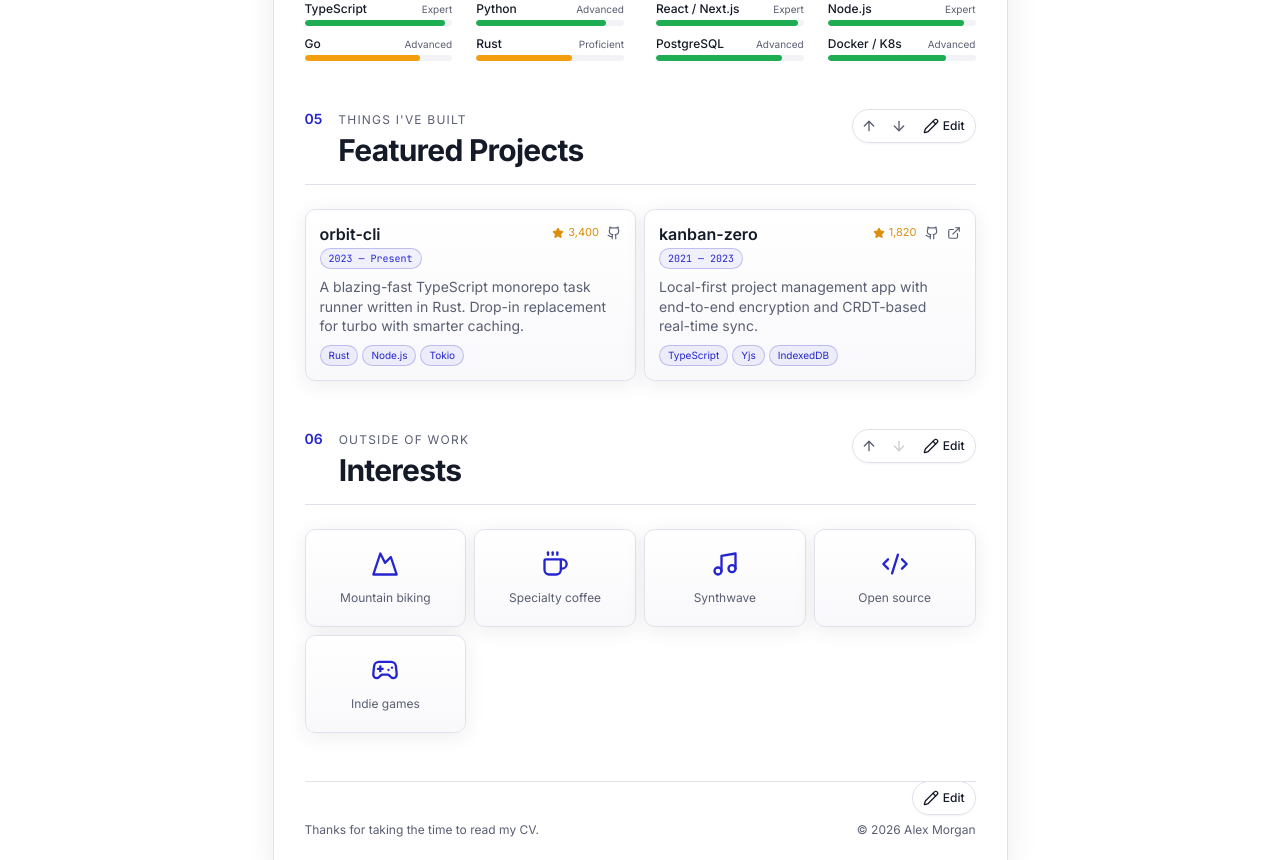
Test: color theme + section designs › switches hobbies to flat cards
The image size is (1280, 860).
(page scrolled)
What coordinates should you click on to do the following:
click the button "Edit" in the row of "Outside of work"
I would click on:
 (944, 446)
Its box is [915,432,972,460].
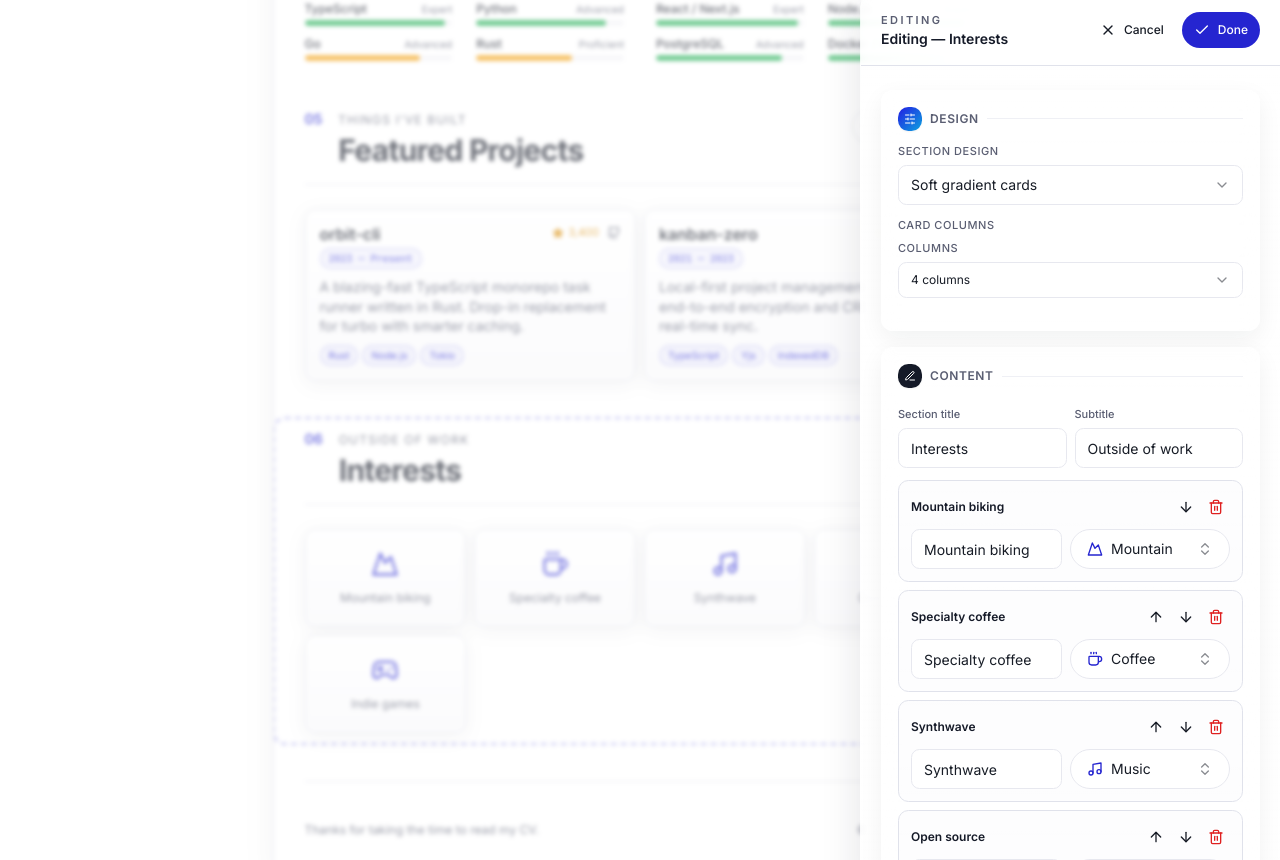
Expected: the heading "Editing — Interests" is shown, [881,28,1008,48]
What coordinates should you click on to do the following:
click the dropdown named "Section design"
I would click on:
 (974, 184)
Its box is [898,165,1243,205].
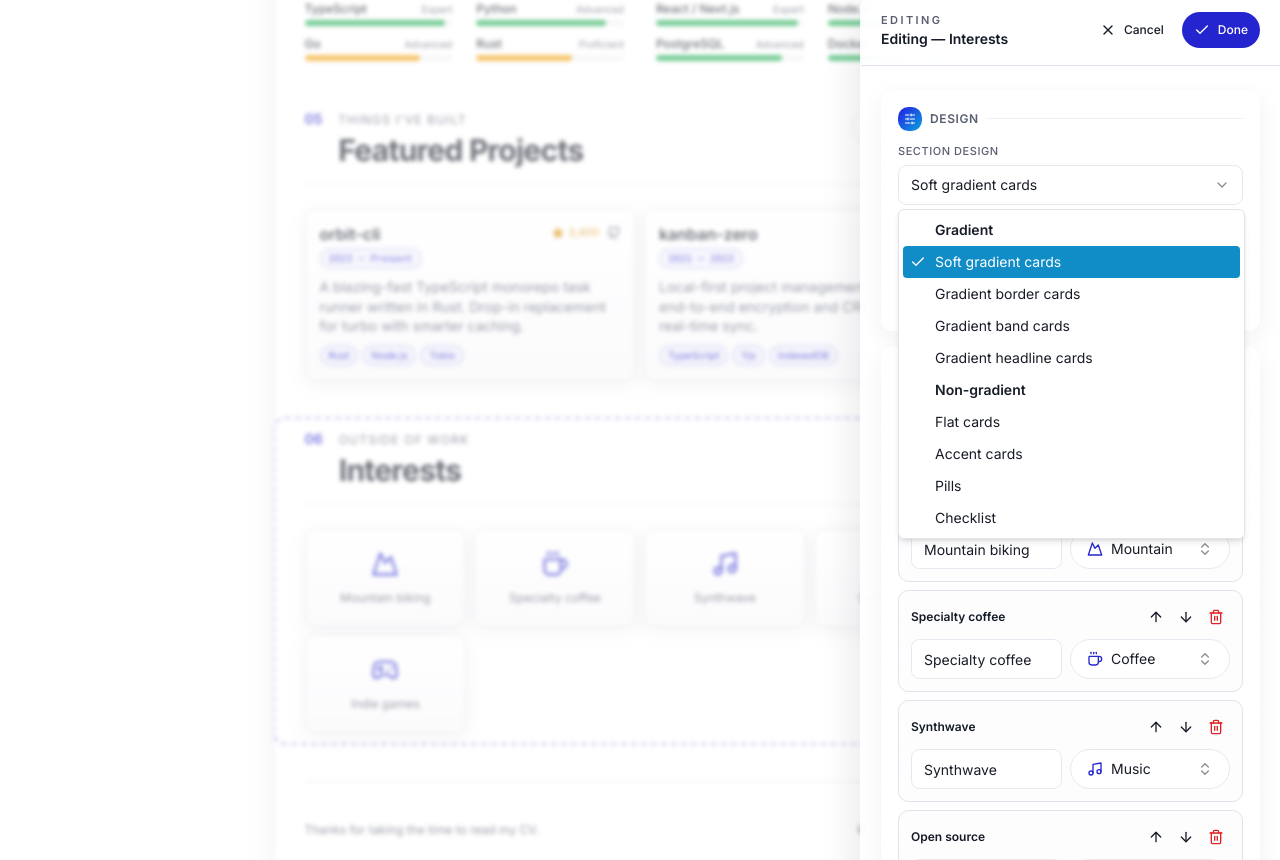
What coordinates should you click on to do the following:
click the option "Flat cards"
I would click on:
 (968, 422)
Its box is [935,413,1000,430].
(page scrolled)
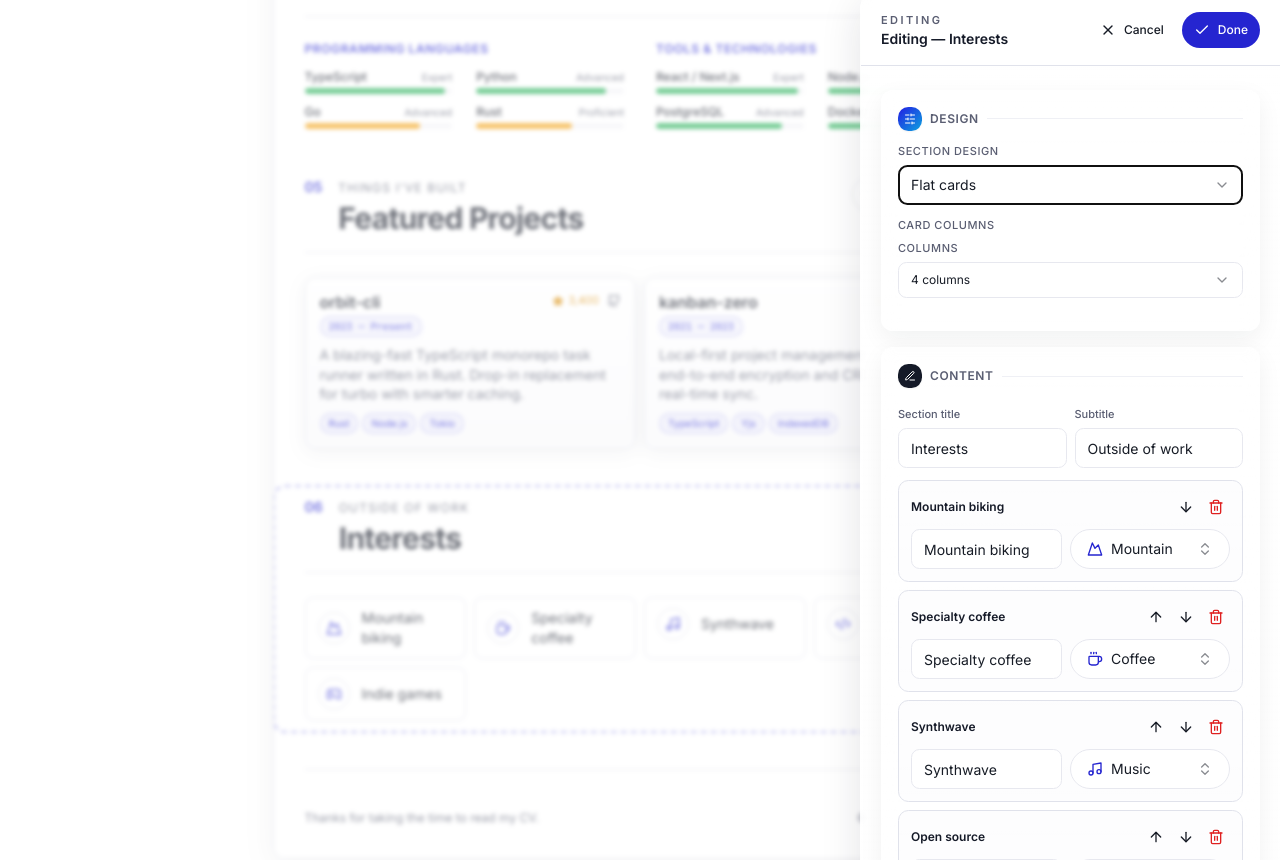
Expected: the element with class "cv-hobby-tile" showing "Mountain biking" is shown, [304,597,466,659]
